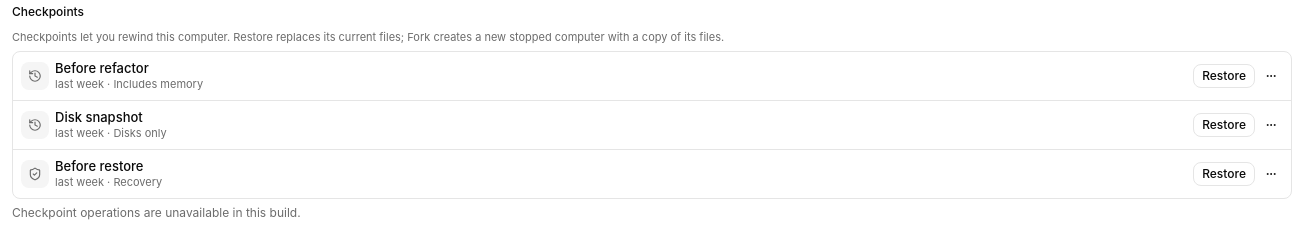
it: hides Export for a remote computer checkpoint
Click the button named "Checkpoint actions for Before refactor". click: (1271, 76)
box: [1259, 64, 1283, 88]
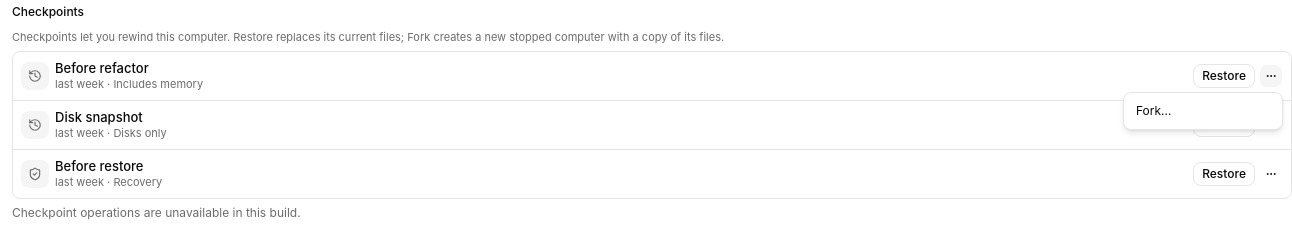
expect the menu item with aria-label "Fork Before refactor" is shown: met, box [1136, 103, 1172, 118]
